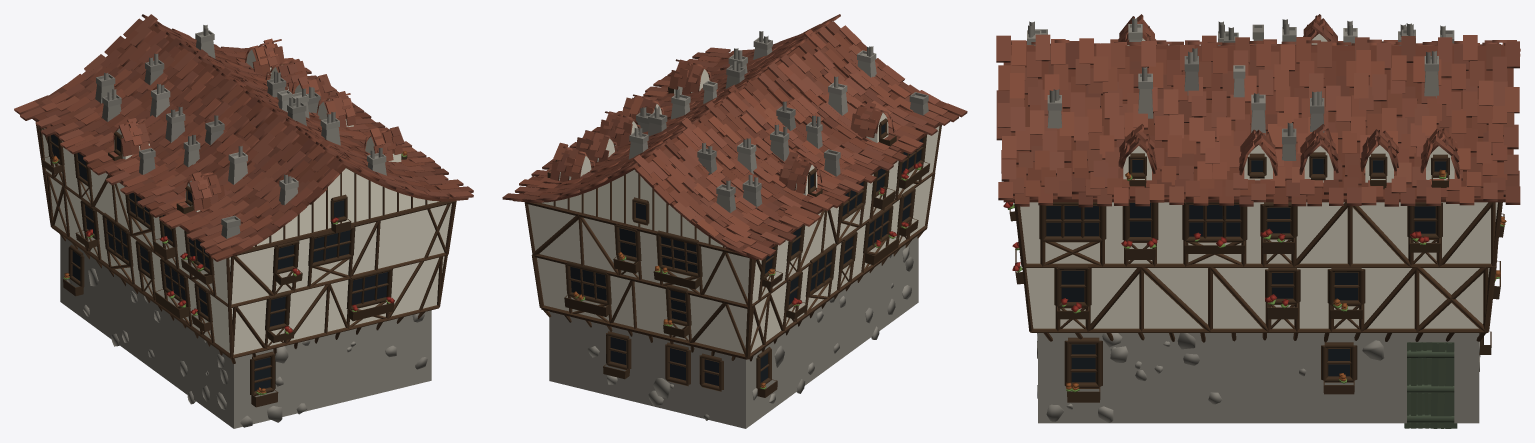
Rendered from house_19.glb.
3 views of the same model, side by side, from view 1: azimuth 30°, elevation 25°; view 2: azimuth 150°, elevation 25°; view 3: azimuth 270°, elevation 25° (orthographic). The views are drawn at different scales.
Parts seen in each view (by area): view 1: house_19; view 2: house_19; view 3: house_19.
Part boxes in pixels (x1,y1,x2,y2): house_19: (14,14,473,428); house_19: (502,14,967,428); house_19: (996,14,1520,428).
Size of the model in its own units: 8.63 by 8.29 by 11.64.
